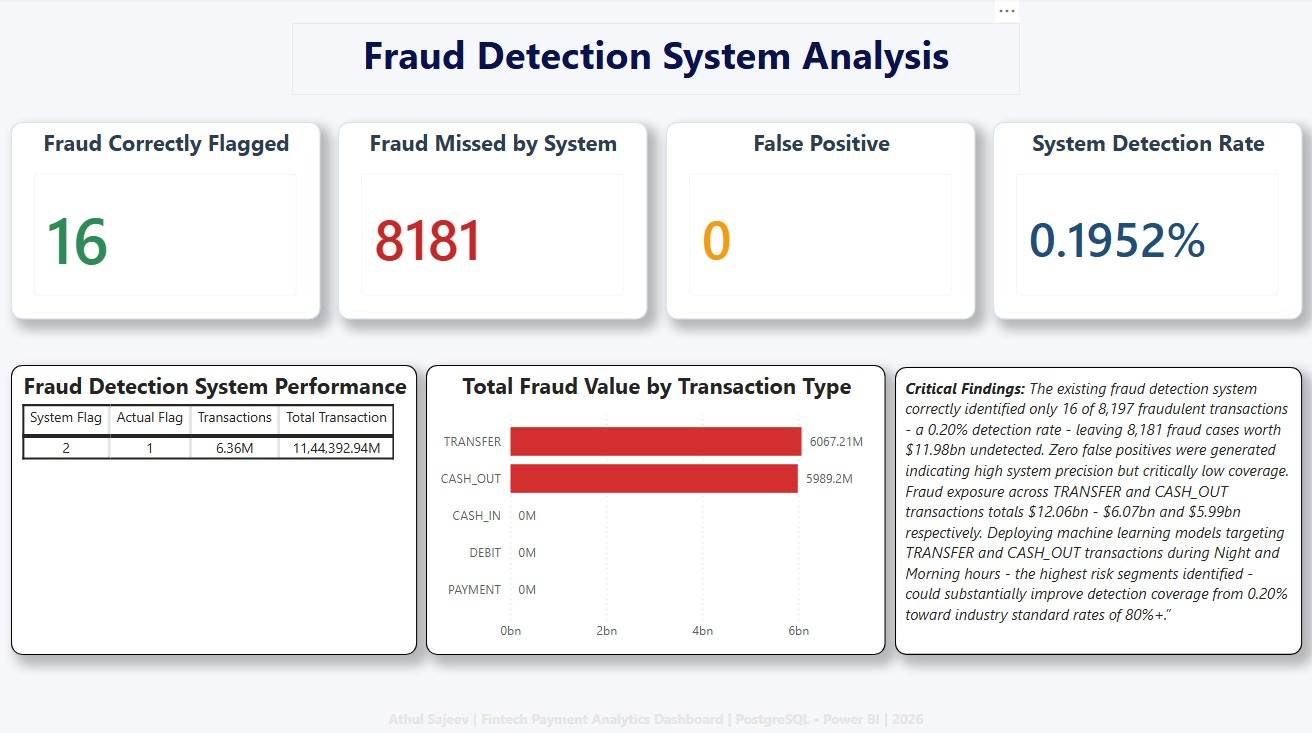

The page's visual inventory and layout, read from the dashboard file:
{"tool":"powerbi","page":{"name":"Risk Intelligence","canvas":[1280,720],"ordinal":3},"visuals":[{"type":"textbox","box":[286,24.3,708.1,70],"z":0},{"type":"cardVisual","title":"Fraud Correctly Flagged","fields":{"Data":["Sum(query7_flagging_effectiveness.total)"]},"box":[12.6,120.6,300.5,191.6],"z":1000},{"type":"cardVisual","title":"Fraud Missed by System","fields":{"Data":["Sum(query7_flagging_effectiveness.total)"]},"box":[331,120.6,300.5,191.6],"z":2000},{"type":"cardVisual","title":"False Positive","fields":{"Data":["query7_flagging_effectiveness.False Positive"]},"box":[649.4,120.6,300.5,191.6],"z":3000},{"type":"cardVisual","title":"System Detection Rate","fields":{"Data":["query7_flagging_effectiveness.System Detection Rate"]},"box":[967.8,120.6,300.5,191.6],"z":4000},{"type":"tableEx","title":"Fraud Detection System Performance","fields":{"Values":["Sum(query7_flagging_effectiveness.isfraud)","Sum(query7_flagging_effectiveness.isflaggedfraud)","Sum(query7_flagging_effectiveness.total)","Sum(query7_flagging_effectiveness.total_value)"]},"box":[13,357,395,282],"z":5000},{"type":"clusteredBarChart","title":"Total Fraud Value by Transaction Type","fields":{"Category":["query2_fraud_by_type.type"],"Y":["Sum(query2_fraud_by_type.fraud_value)"]},"box":[416,357,447,282],"z":6000},{"type":"textbox","box":[872,359,396,280],"z":6001},{"type":"textbox","box":[0,686.7,1280,33.1],"z":6002}]}

Visuals, with their boxes in screenshot pixels (x1, y1, x2, y2), scaled from the page's 1280x720 canvas onto the 1312x733 screenshot:
textbox: {"x1": 293, "y1": 25, "x2": 1019, "y2": 96}
"Fraud Correctly Flagged" cardVisual: {"x1": 13, "y1": 123, "x2": 321, "y2": 318}
"Fraud Missed by System" cardVisual: {"x1": 339, "y1": 123, "x2": 647, "y2": 318}
"False Positive" cardVisual: {"x1": 666, "y1": 123, "x2": 974, "y2": 318}
"System Detection Rate" cardVisual: {"x1": 992, "y1": 123, "x2": 1300, "y2": 318}
"Fraud Detection System Performance" tableEx: {"x1": 13, "y1": 363, "x2": 418, "y2": 651}
"Total Fraud Value by Transaction Type" clusteredBarChart: {"x1": 426, "y1": 363, "x2": 885, "y2": 651}
textbox: {"x1": 894, "y1": 365, "x2": 1300, "y2": 651}
textbox: {"x1": 0, "y1": 699, "x2": 1311, "y2": 732}
